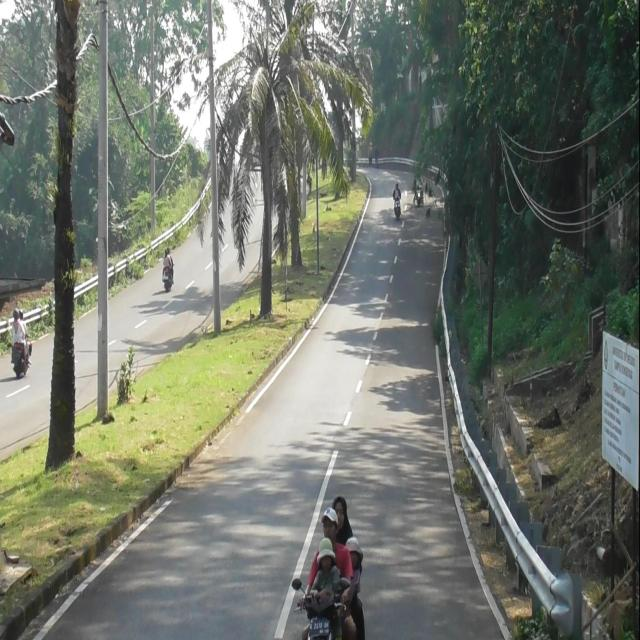motorcycle: (293, 573, 350, 640), (14, 342, 27, 378), (164, 265, 174, 291), (395, 196, 401, 218)
person: (300, 507, 352, 605), (312, 543, 339, 598), (334, 497, 356, 549), (346, 538, 362, 604), (10, 310, 24, 348), (18, 308, 27, 341), (162, 250, 172, 271), (392, 183, 402, 200), (166, 247, 174, 266)
rider_region: (287, 491, 368, 633), (9, 301, 32, 380), (160, 245, 174, 292), (393, 182, 402, 220)
